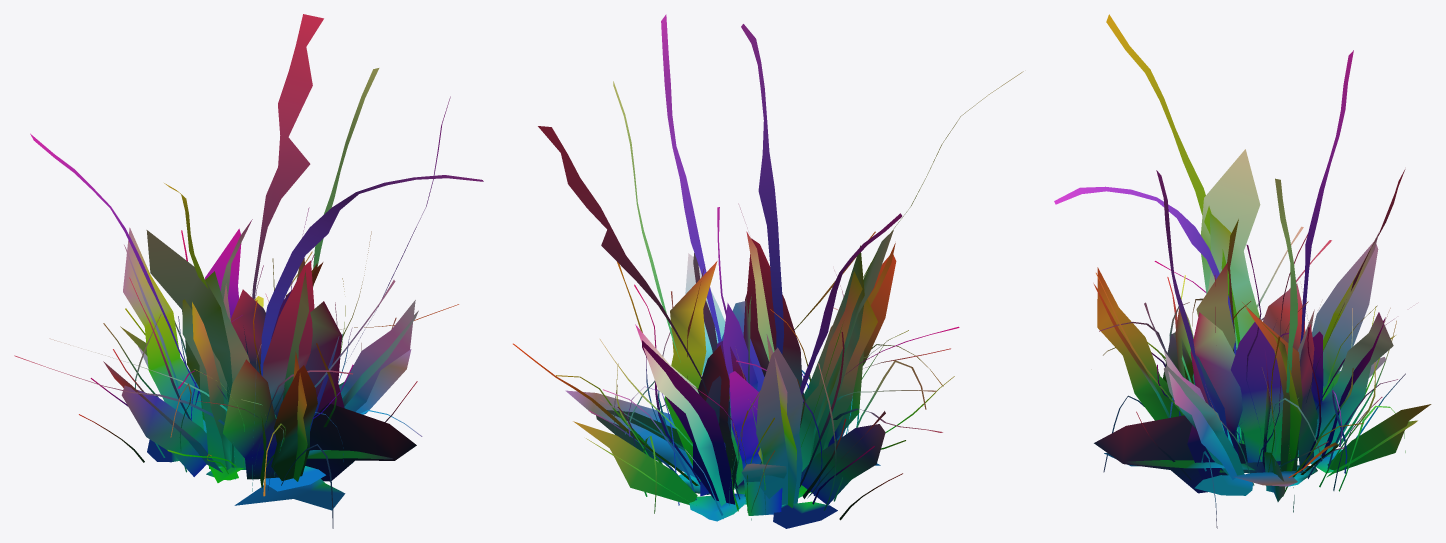
The model's file is uddmcgbia_VarH_LOD0.fbx.
The picture shows the model from 3 angles, left to right: view 1: azimuth 30°, elevation 25°; view 2: azimuth 150°, elevation 25°; view 3: azimuth 270°, elevation 25°; orthographic projection. The views are drawn at different scales.
Visible parts, largest first — view 1: _762a_VarH_LOD0; view 2: _762a_VarH_LOD0; view 3: _762a_VarH_LOD0.
Boxes of the visible parts, box(x1,y1,x2,y2) form: _762a_VarH_LOD0: box(14, 14, 483, 528); _762a_VarH_LOD0: box(513, 14, 1023, 528); _762a_VarH_LOD0: box(1054, 14, 1431, 528).
Size of the model in its own units: 41.54 by 36.67 by 32.72.
